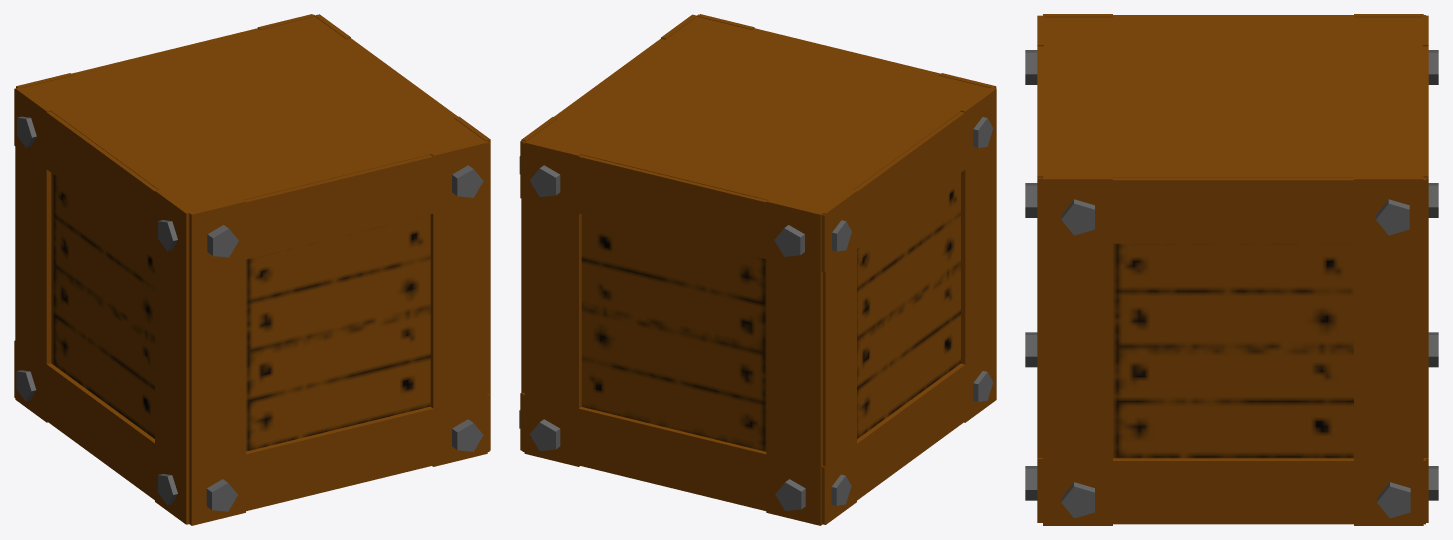
The model's file is crateExp01.fbx.
3 renders of one model, left to right at view 1: azimuth 30°, elevation 25°; view 2: azimuth 150°, elevation 25°; view 3: azimuth 270°, elevation 25°, orthographic. The views are drawn at different scales.
Parts seen in each view (by area): view 1: pCylinder15; view 2: pCylinder15; view 3: pCylinder15.
Part boxes in pixels (x1,y1,x2,y2): pCylinder15: (14, 14, 490, 525); pCylinder15: (519, 14, 996, 525); pCylinder15: (1025, 14, 1438, 525).
Size of the model in its own units: 72.71 by 68.16 by 73.64.
